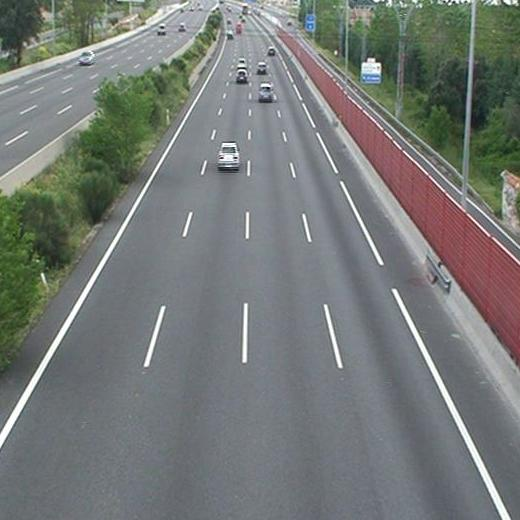car: (217, 143, 240, 169), (258, 84, 274, 100), (236, 71, 247, 82), (257, 63, 267, 74), (237, 58, 247, 69), (268, 48, 276, 56)
